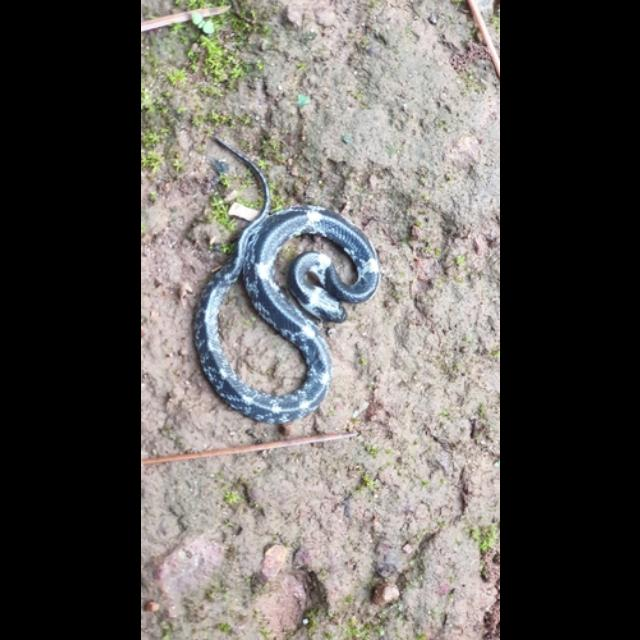snake: (194, 142, 378, 426)
